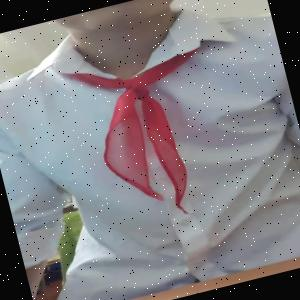redscarf: (87, 61, 192, 198)
